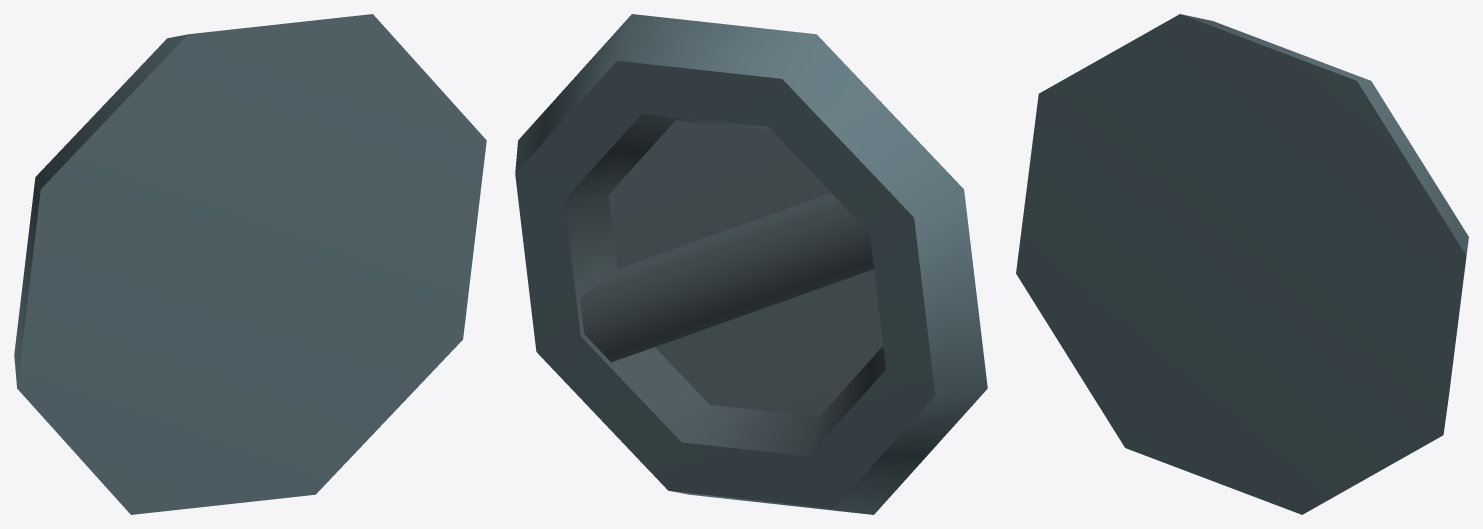
File: Turret_011_Gun_Part_04.fbx
3 views of the same model, side by side, from view 1: azimuth 30°, elevation 25°; view 2: azimuth 150°, elevation 25°; view 3: azimuth 330°, elevation 25° (orthographic). The views are drawn at different scales.
Visible parts, largest first — view 1: Turret_011_Gun_Part_04; view 2: Turret_011_Gun_Part_04; view 3: Turret_011_Gun_Part_04.
Boxes of the visible parts, left/top/right/bottom form: Turret_011_Gun_Part_04: left=14, top=14, right=486, bottom=514; Turret_011_Gun_Part_04: left=515, top=14, right=987, bottom=514; Turret_011_Gun_Part_04: left=1016, top=14, right=1468, bottom=514.
Size of the model in its own units: 19.05 by 1.95 by 19.05.
